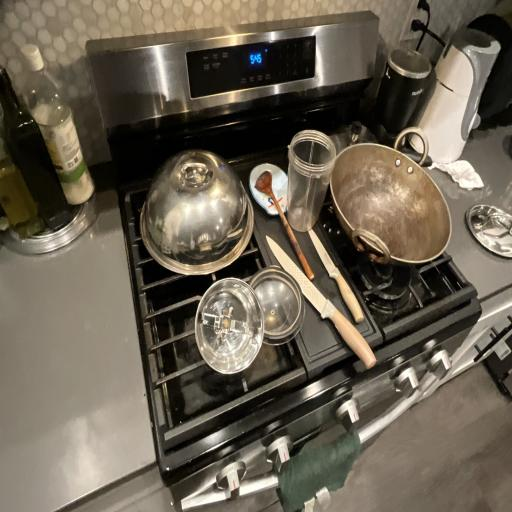Pan: (315, 127, 468, 276)
Stove: (89, 44, 508, 481)
knife: (261, 228, 381, 371), (303, 210, 370, 320)
